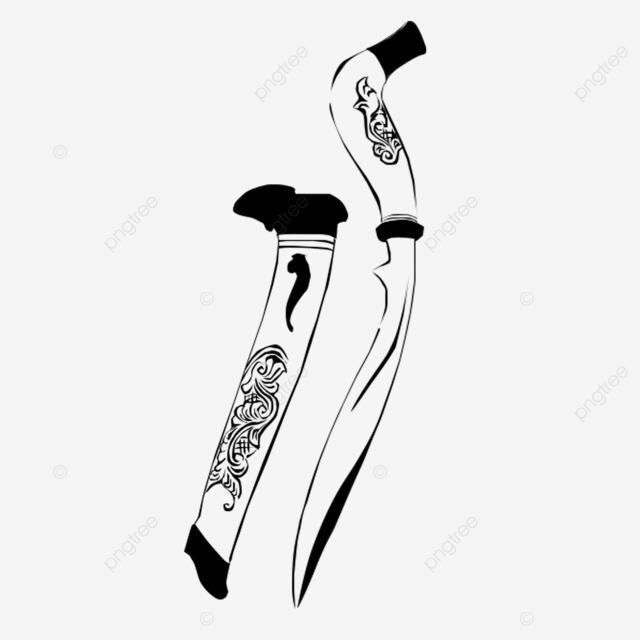facao: (278, 34, 458, 612), (165, 167, 339, 616)
